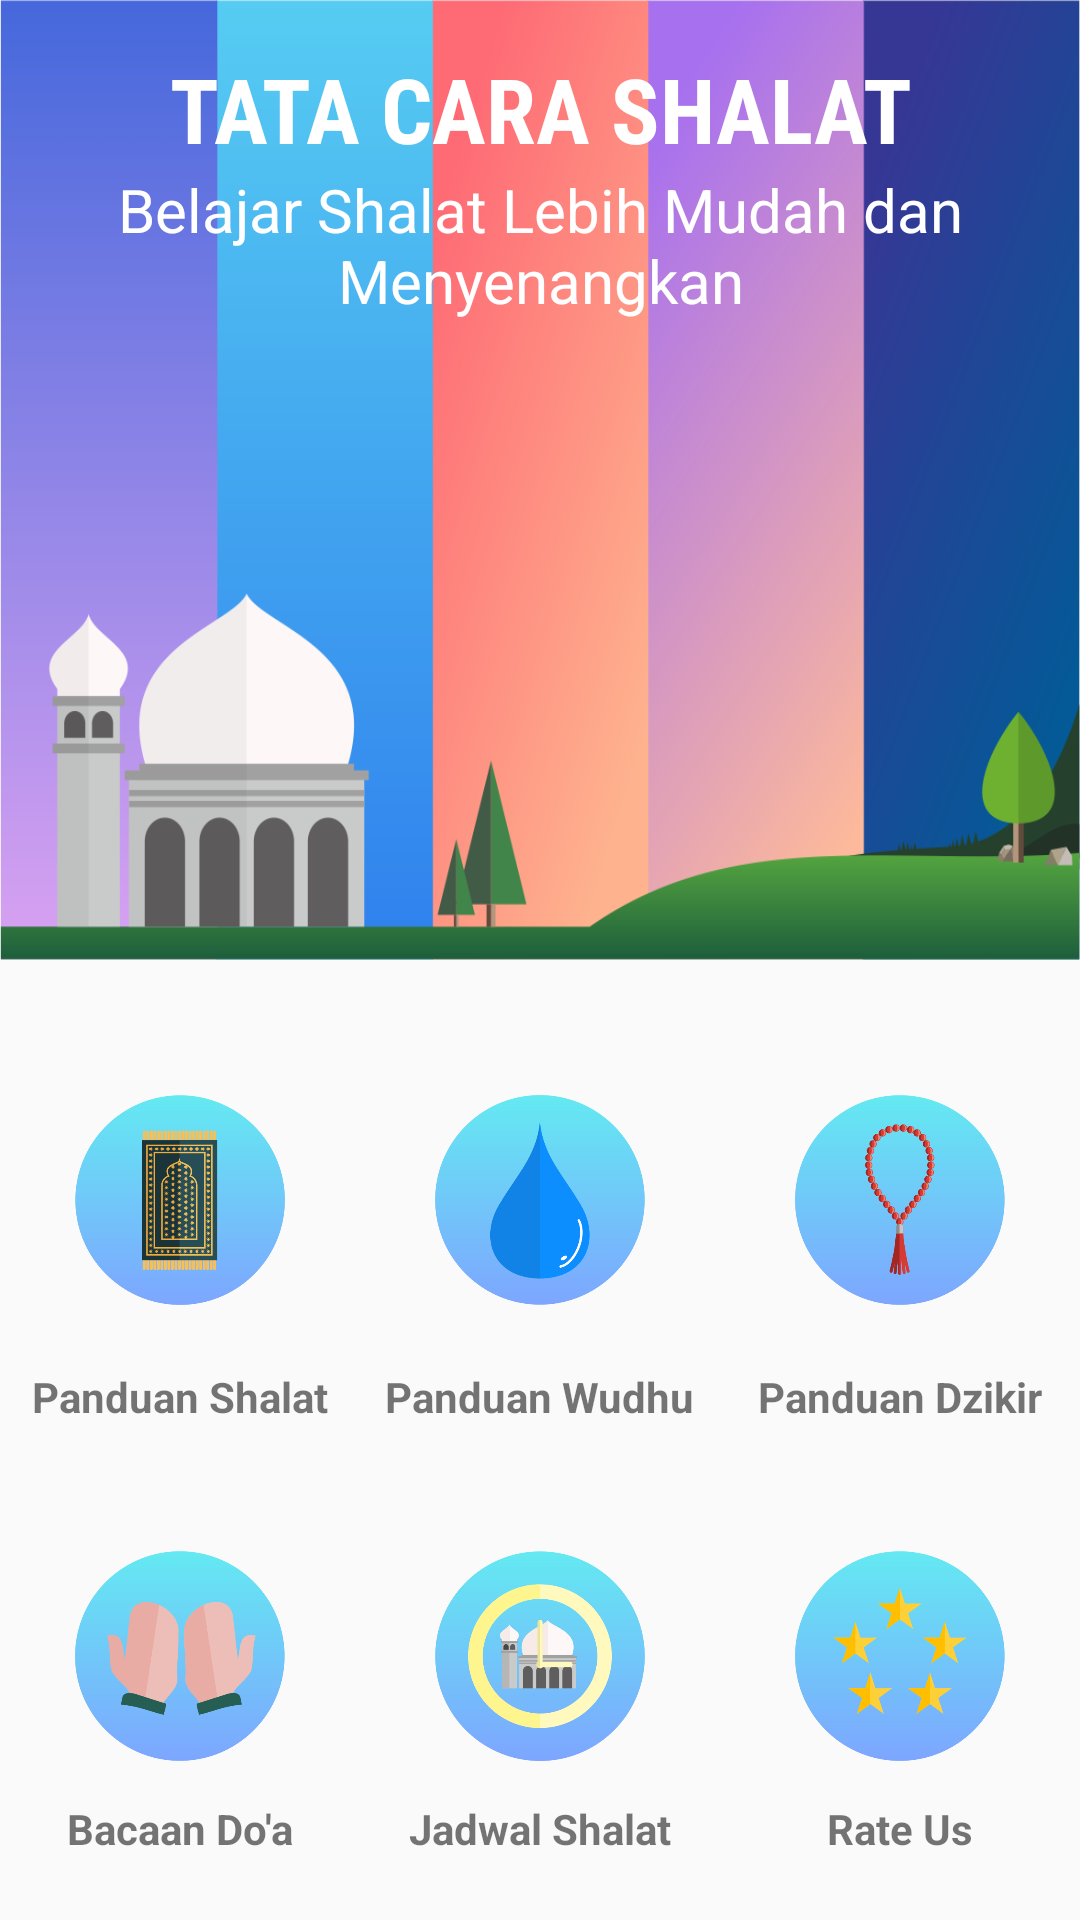

Where to tap for icons on this 1080*1920 app screen, as (x,y):
home dzikir: (900,1200)
home shalat: (180,1200)
home wudhu: (540,1200)
